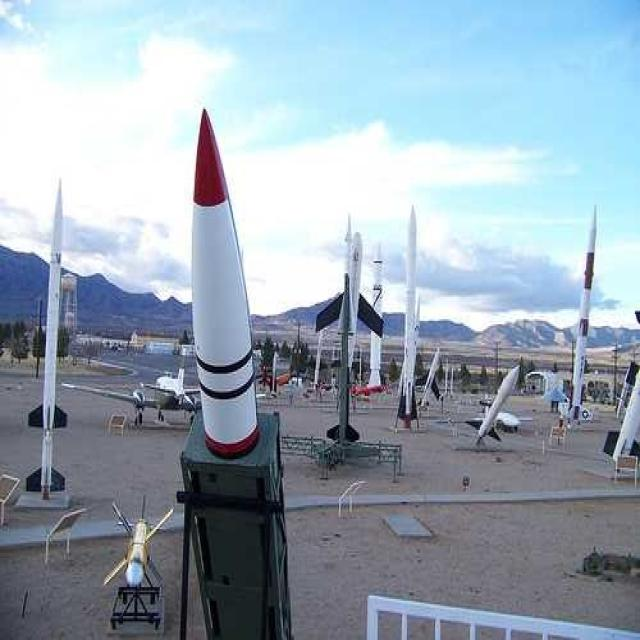missile: (187, 102, 264, 446), (27, 175, 66, 499), (554, 199, 602, 420), (390, 202, 420, 430), (465, 361, 521, 447), (369, 236, 385, 391)
